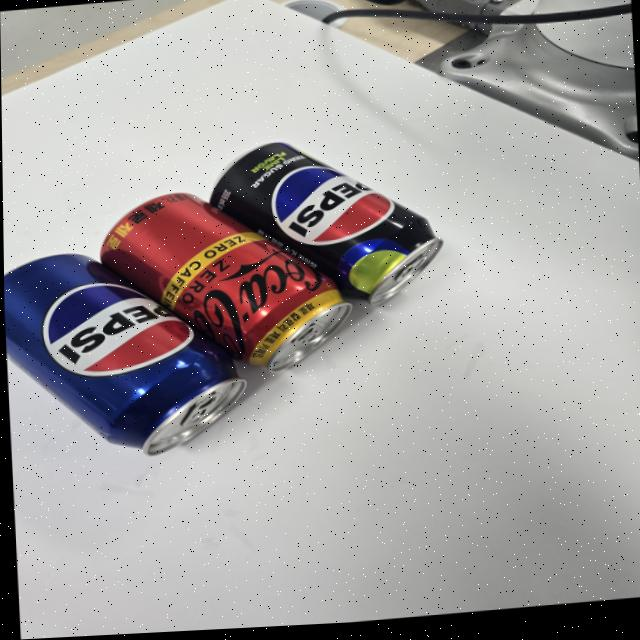can_coke_decaf: (98, 194, 358, 372)
can_pepsi: (4, 251, 247, 453)
can_pepsi_zero: (211, 138, 444, 308)
